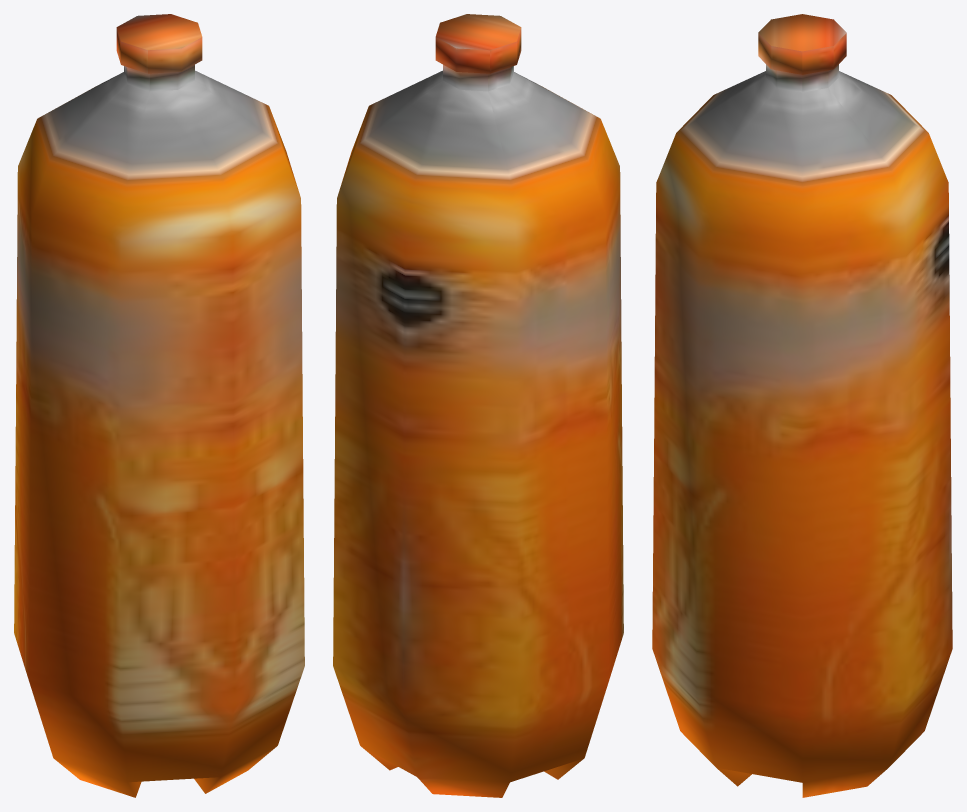
The picture shows the model from 3 angles, left to right: view 1: azimuth 30°, elevation 25°; view 2: azimuth 150°, elevation 25°; view 3: azimuth 270°, elevation 25°; orthographic projection.
Visible parts, largest first — view 1: Soda_07001_Foods_01_0; view 2: Soda_07001_Foods_01_0; view 3: Soda_07001_Foods_01_0.
Part boxes in pixels (x1=…): Soda_07001_Foods_01_0: x1=14, y1=14, x2=304, y2=797; Soda_07001_Foods_01_0: x1=333, y1=14, x2=623, y2=797; Soda_07001_Foods_01_0: x1=652, y1=14, x2=952, y2=797.
Bounding box in the file's own units: 0.2323 × 0.6202 × 0.2323.
1 material, 1 textured.
